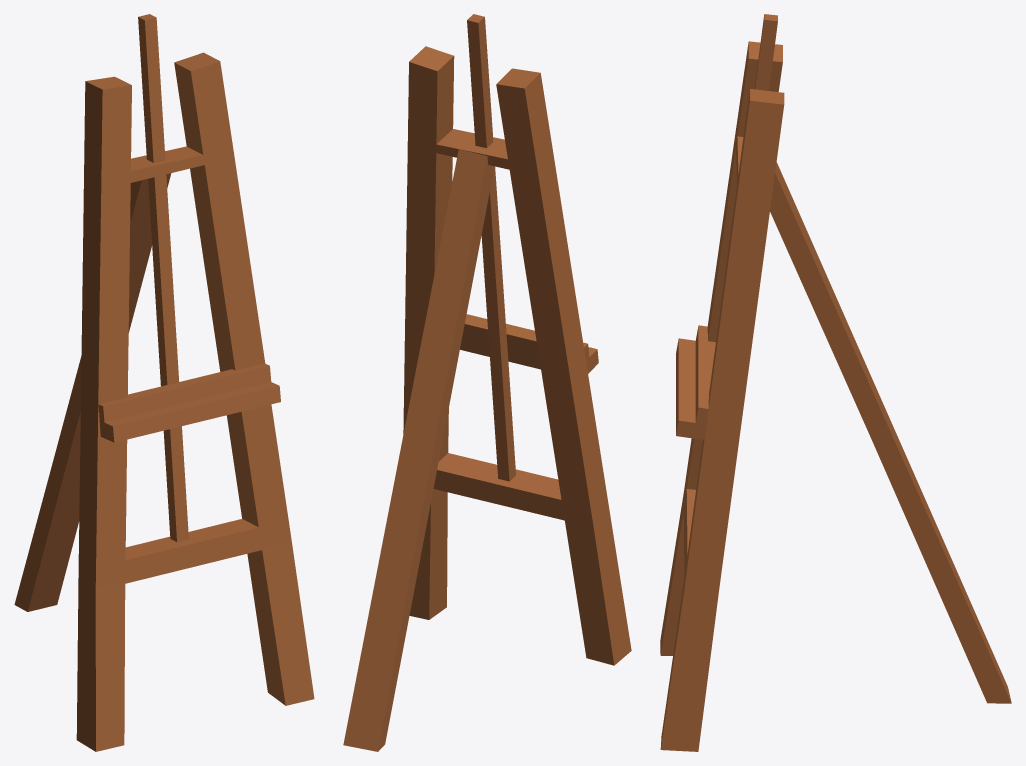
The model's file is maalausteline.fbx.
The picture shows the model from 3 angles, left to right: view 1: azimuth 30°, elevation 25°; view 2: azimuth 150°, elevation 25°; view 3: azimuth 270°, elevation 25°; orthographic projection. The views are drawn at different scales.
Visible parts, largest first — view 1: telikne; view 2: telikne; view 3: telikne.
Part boxes in pixels (x1,y1,x2,y2): telikne: (14, 14, 314, 751); telikne: (343, 14, 631, 751); telikne: (660, 14, 1011, 751).
Bounding box in the file's own units: 37.4 × 108 × 50.86.
